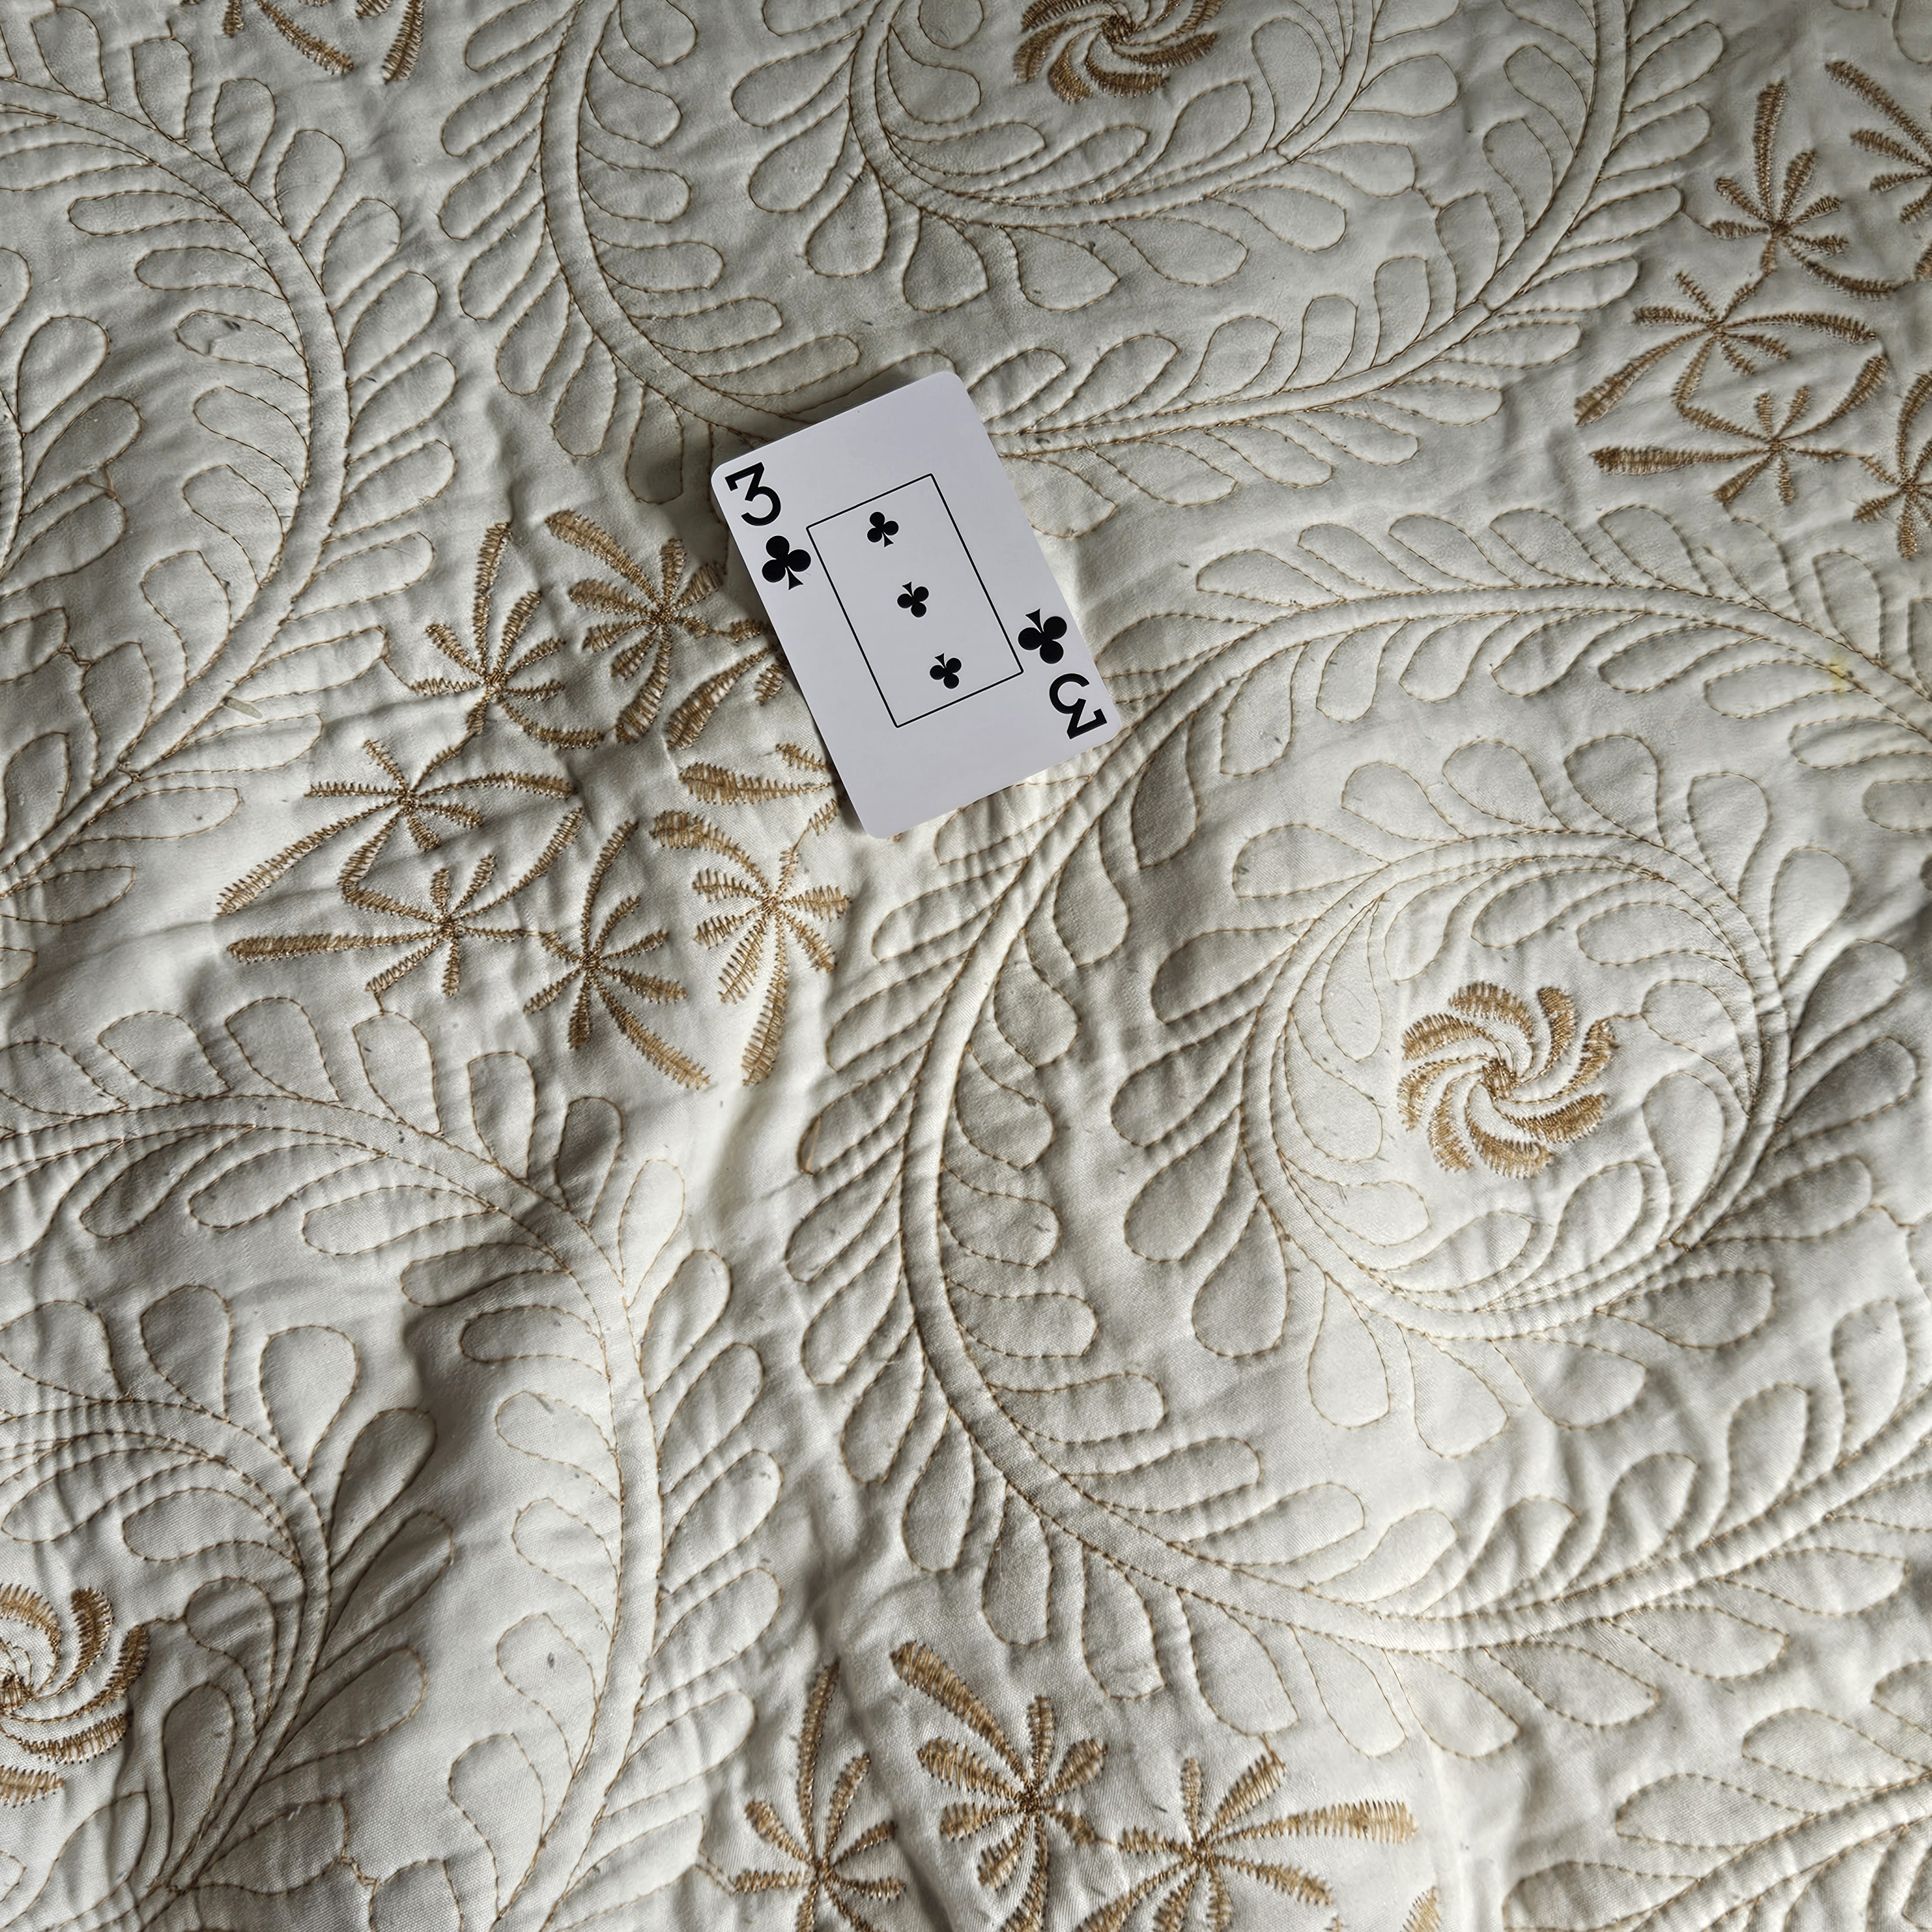3P: (709, 451, 828, 600), (1008, 591, 1118, 745)
